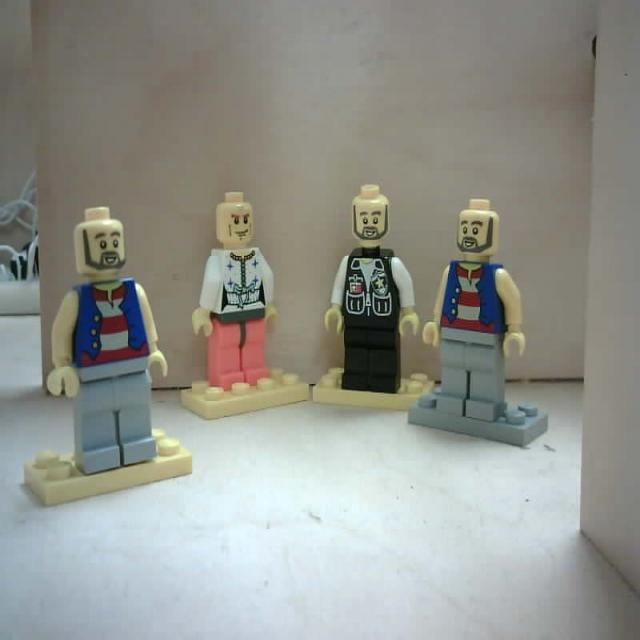Lego-People: (25, 205, 192, 508), (406, 201, 550, 449), (176, 190, 312, 422), (310, 181, 436, 415)
